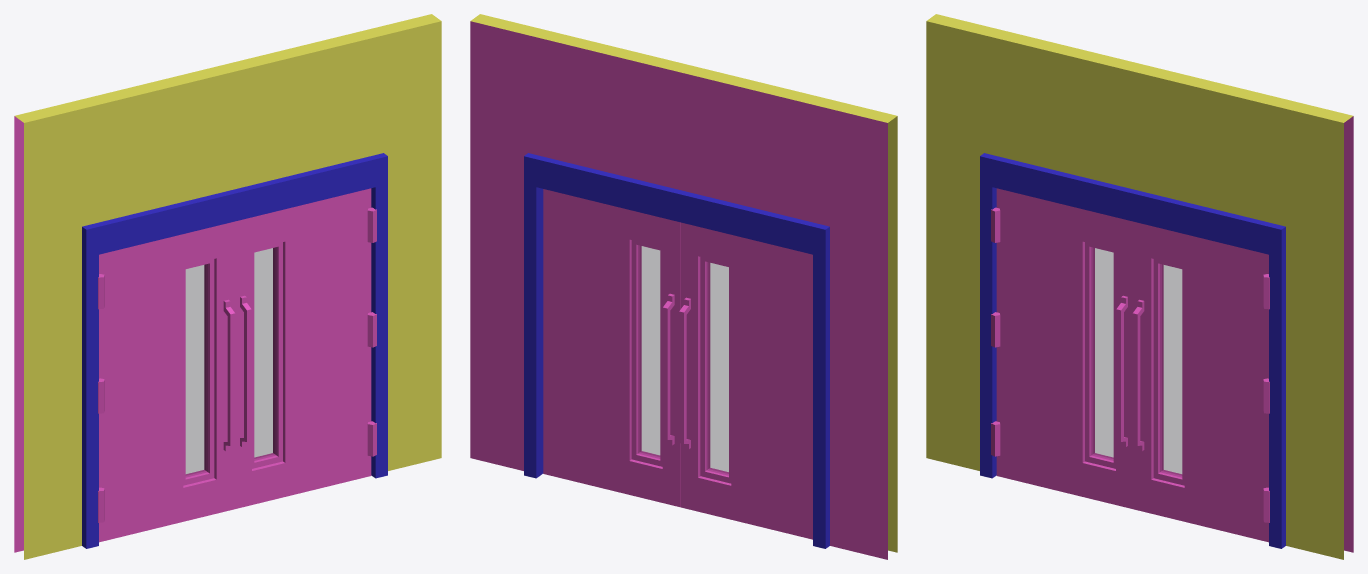
Rendered from SM_wall2.fbx.
3 renders of one model, left to right at view 1: azimuth 30°, elevation 25°; view 2: azimuth 150°, elevation 25°; view 3: azimuth 330°, elevation 25°, orthographic.
Visible parts, largest first — view 1: wall2, Cube_2, Cube_2_2; view 2: wall2, Cube_2, Cube_2_2; view 3: wall2, Cube_2_2, Cube_2.
Part boxes in pixels (bbox=[...]): wall2: bbox=[14, 14, 441, 559]; Cube_2: bbox=[234, 188, 376, 509]; Cube_2_2: bbox=[98, 222, 235, 542]; wall2: bbox=[470, 14, 897, 559]; Cube_2: bbox=[543, 189, 680, 507]; Cube_2_2: bbox=[679, 222, 812, 539]; wall2: bbox=[926, 14, 1353, 559]; Cube_2_2: bbox=[991, 188, 1133, 509]; Cube_2: bbox=[1132, 222, 1269, 542].
Bounding box in the file's own units: 300 × 300 × 29.47.
